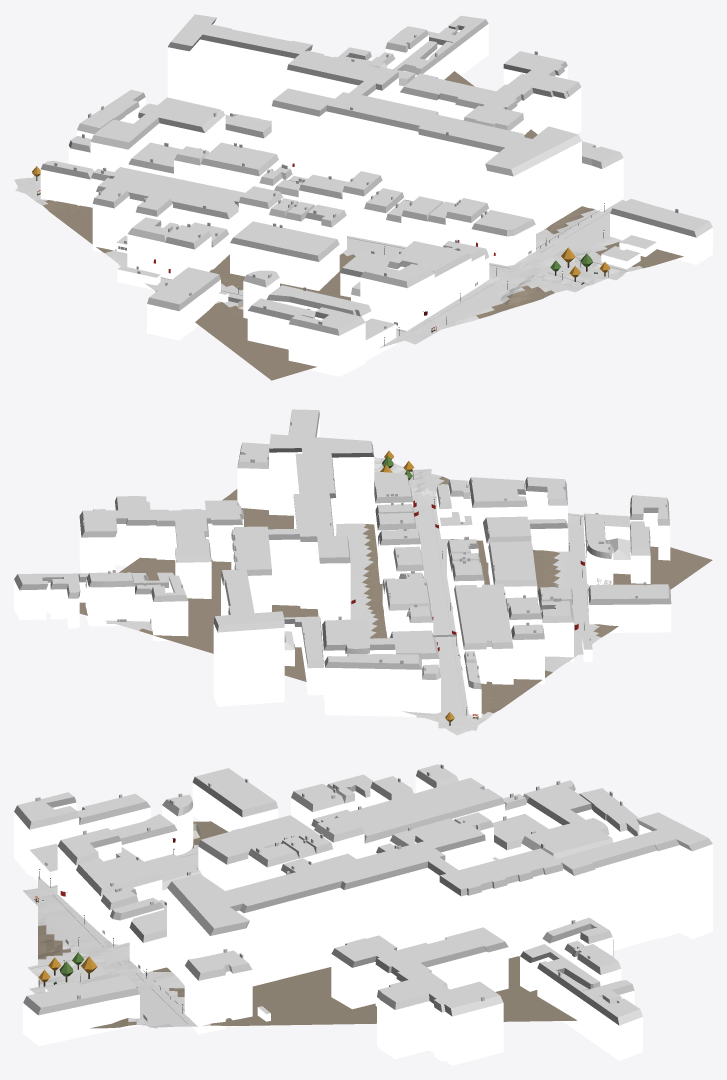
File: zone_G2.glb
3 renders of one model, top to bottom at view 1: azimuth 30°, elevation 25°; view 2: azimuth 150°, elevation 25°; view 3: azimuth 270°, elevation 25°, orthographic. The views are drawn at different scales.
Parts seen in each view (by area): view 1: zone_G2_batiments, zone_G2_terrain, zone_G2_sol_NOCOL, zone_G2_decor_NOCOL; view 2: zone_G2_batiments, zone_G2_terrain, zone_G2_sol_NOCOL; view 3: zone_G2_batiments, zone_G2_terrain, zone_G2_sol_NOCOL, zone_G2_decor_NOCOL.
Boxes of the visible parts, box(x1,y1,x2,y2) form: zone_G2_batiments: box(40, 14, 712, 376); zone_G2_terrain: box(17, 71, 683, 380); zone_G2_sol_NOCOL: box(14, 175, 628, 344); zone_G2_decor_NOCOL: box(32, 166, 609, 345); zone_G2_batiments: box(14, 409, 671, 717); zone_G2_terrain: box(79, 457, 712, 731); zone_G2_sol_NOCOL: box(106, 458, 585, 735); zone_G2_batiments: box(14, 764, 712, 1065); zone_G2_terrain: box(38, 821, 613, 1028); zone_G2_sol_NOCOL: box(22, 852, 198, 1028); zone_G2_decor_NOCOL: box(38, 849, 184, 1013).
Bounding box in the file's own units: 248 × 46.3 × 255.
